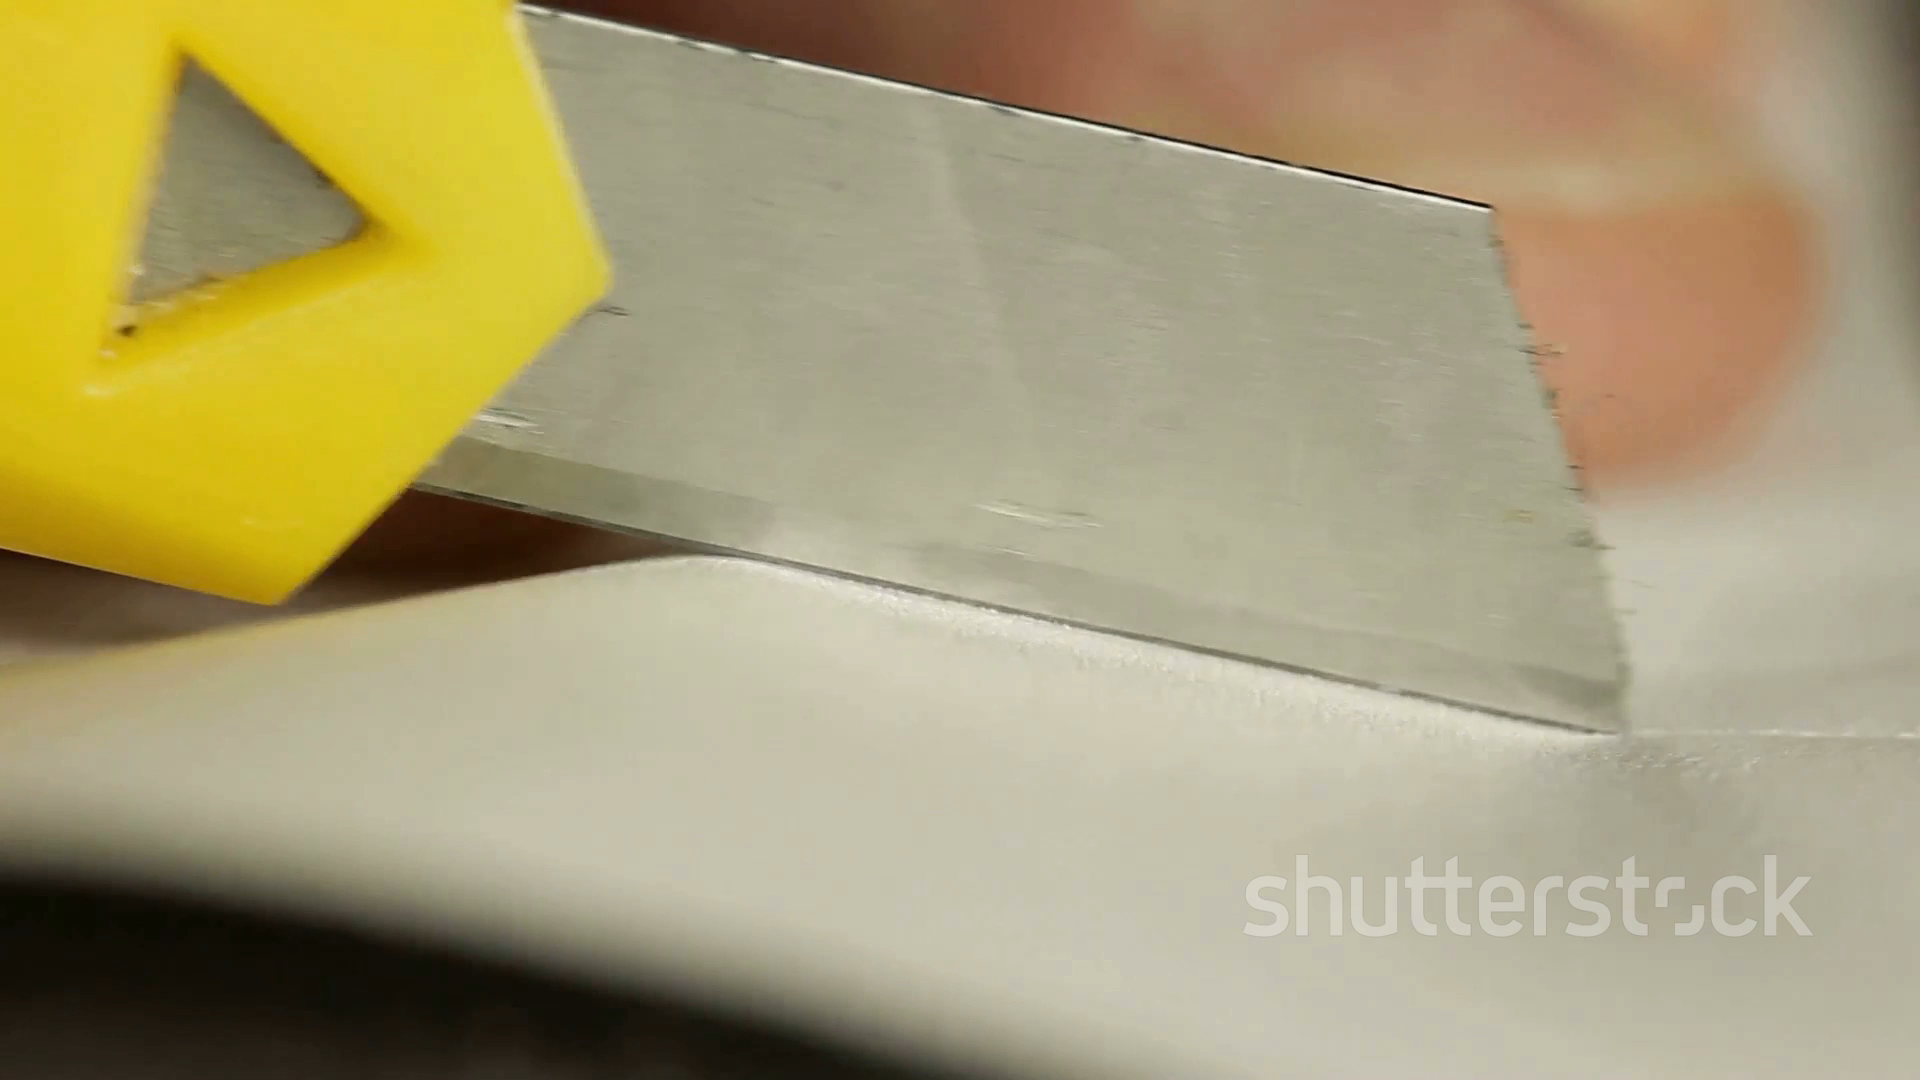cortante: (411, 0, 1626, 736)
